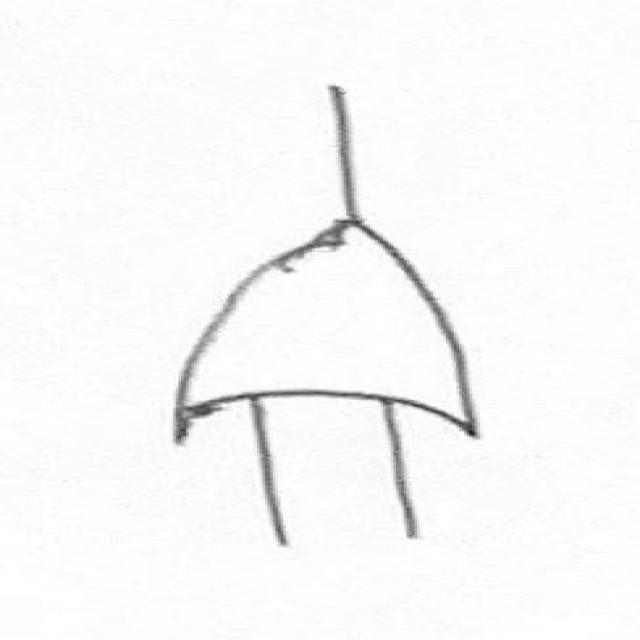OR: (128, 176, 554, 460)
